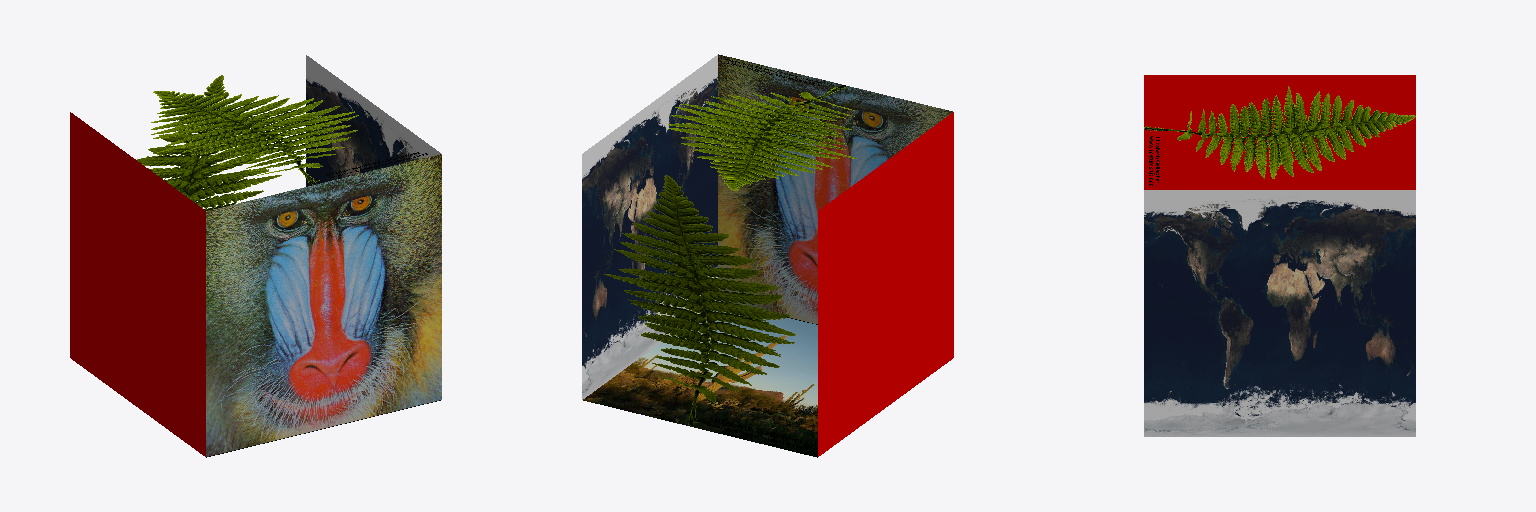
The picture shows the model from 3 angles: view 1: azimuth 30°, elevation 25°; view 2: azimuth 150°, elevation 25°; view 3: azimuth 270°, elevation 25°; orthographic projection.
Visible parts, largest first — view 1: cube; view 2: cube; view 3: cube.
Boxes of the visible parts, <box> form: cube: <box>70,55,441,457</box>; cube: <box>582,54,953,457</box>; cube: <box>1144,75,1415,436</box>.
Bounding box in the file's own units: 1 × 1 × 1.
Materials: 5 (4 with a texture image).